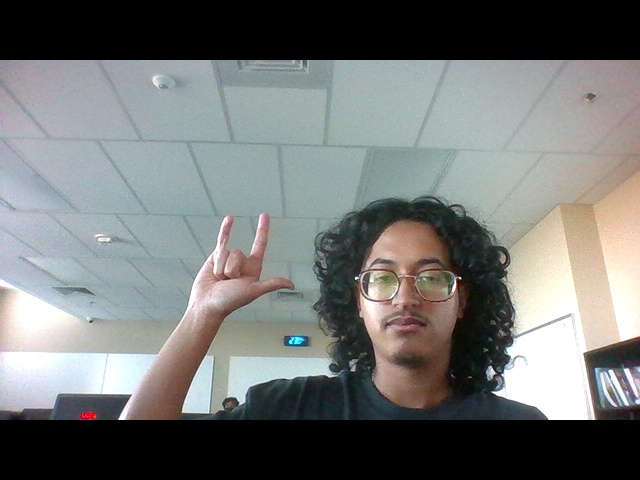iloveyou: (179, 205, 306, 331)
